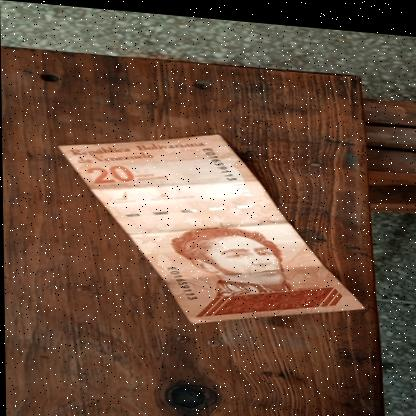twenty-front-vef: (56, 117, 366, 334)
